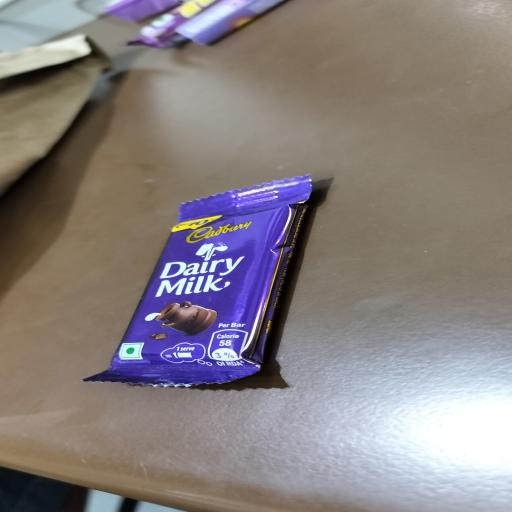chocolate: (96, 170, 352, 400)
dairy-Milk: (145, 249, 252, 305)
